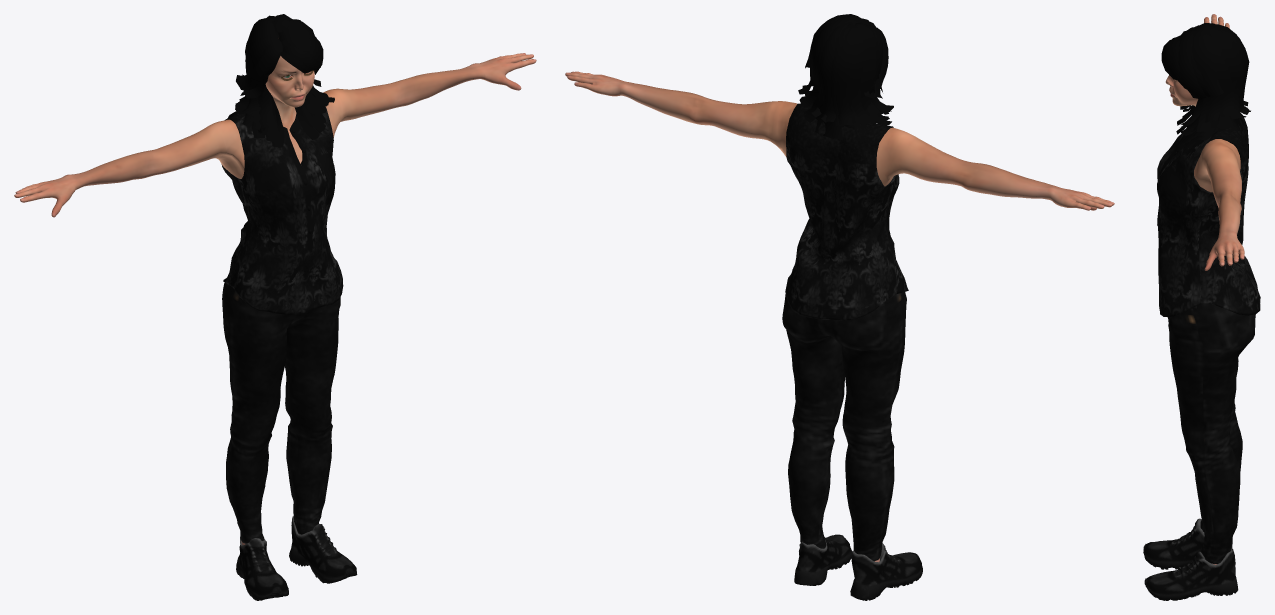
File: TrainWreck.obj
3 views of the same model, side by side, from view 1: azimuth 30°, elevation 25°; view 2: azimuth 150°, elevation 25°; view 3: azimuth 270°, elevation 25° (orthographic). The views are drawn at different scales.
Parts seen in each view (by area): view 1: Bottoms, Tops, Body, Hair, Shoes; view 2: Bottoms, Tops, Body, Hair, Shoes; view 3: Bottoms, Tops, Hair, Shoes, Body.
Part boxes in pixels (x1=…): Bottoms: x1=222, y1=282, x2=340, y2=543; Tops: x1=221, y1=107, x2=343, y2=314; Body: x1=14, y1=38, x2=536, y2=544; Hair: x1=235, y1=14, x2=334, y2=147; Shoes: x1=236, y1=516, x2=357, y2=600; Bottoms: x1=782, y1=292, x2=906, y2=561; Tops: x1=785, y1=103, x2=908, y2=320; Body: x1=565, y1=71, x2=1114, y2=562; Hair: x1=798, y1=14, x2=893, y2=139; Shoes: x1=794, y1=534, x2=922, y2=600; Bottoms: x1=1168, y1=303, x2=1255, y2=563; Tops: x1=1157, y1=113, x2=1260, y2=317; Hair: x1=1161, y1=23, x2=1250, y2=150; Shoes: x1=1143, y1=518, x2=1238, y2=600; Body: x1=1165, y1=14, x2=1244, y2=564.
Bounding box in the file's own units: 163 × 165 × 31.63.
